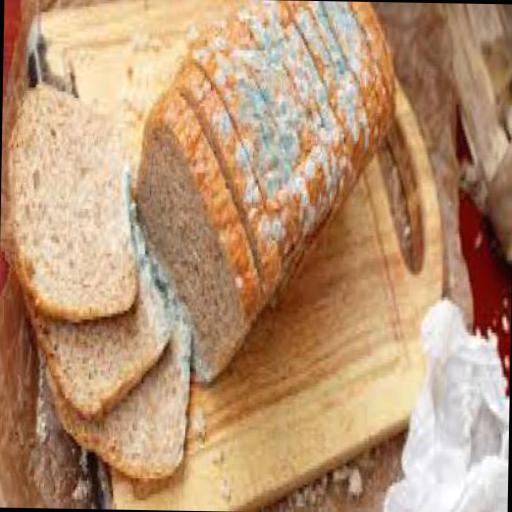biodegradable: (131, 0, 396, 381), (132, 90, 265, 382), (16, 216, 172, 418), (4, 80, 138, 314), (35, 300, 191, 480)
